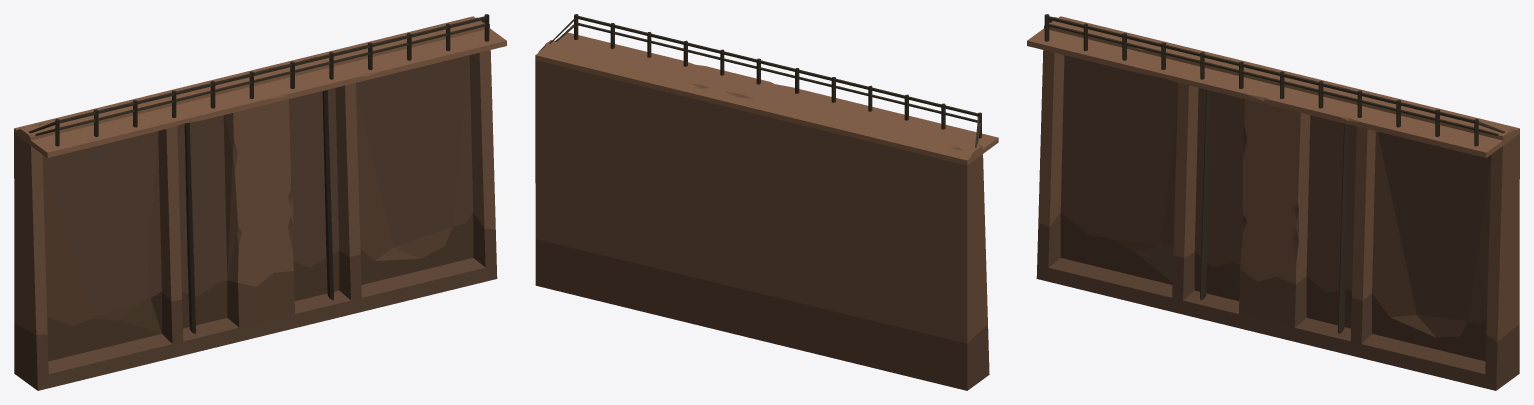
File: SM_Env_Port_Drydock_Small_Flat_01.fbx
3 renders of one model, left to right at view 1: azimuth 30°, elevation 25°; view 2: azimuth 150°, elevation 25°; view 3: azimuth 330°, elevation 25°, orthographic. The views are drawn at different scales.
Visible parts, largest first — view 1: SM_Env_Port_Drydock_Small_Flat_01; view 2: SM_Env_Port_Drydock_Small_Flat_01; view 3: SM_Env_Port_Drydock_Small_Flat_01.
Part boxes in pixels (left/top/right/bottom): SM_Env_Port_Drydock_Small_Flat_01: left=14, top=14, right=506, bottom=390; SM_Env_Port_Drydock_Small_Flat_01: left=535, top=14, right=998, bottom=390; SM_Env_Port_Drydock_Small_Flat_01: left=1027, top=14, right=1519, bottom=390.
Size of the model in its own units: 1000 by 564 by 126.
